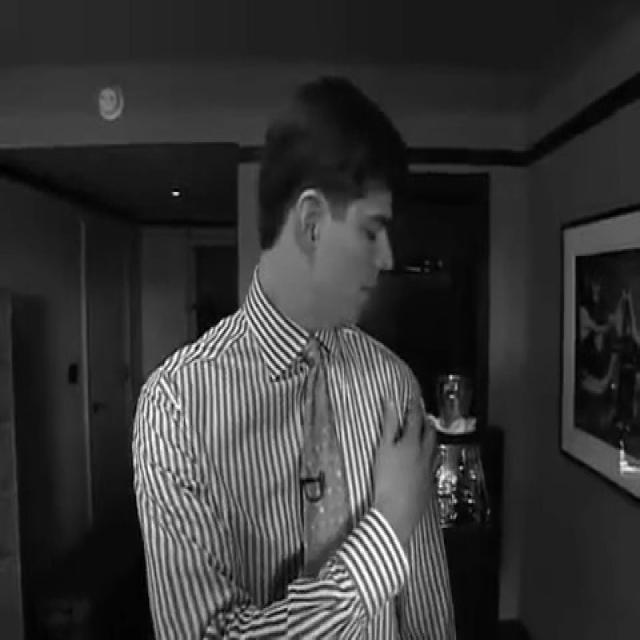Shirt: (129, 265, 456, 640)
